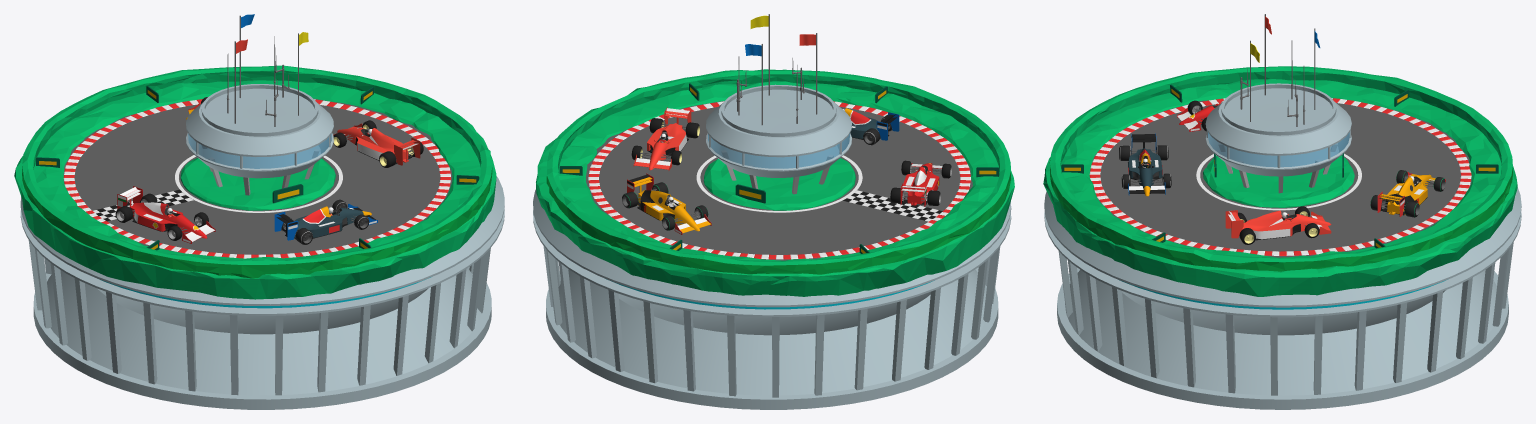
The model's file is land_99.fbx.
3 renders of one model, left to right at view 1: azimuth 30°, elevation 25°; view 2: azimuth 150°, elevation 25°; view 3: azimuth 270°, elevation 25°, orthographic.
Visible parts, largest first — view 1: Cylinder.071, polySurface3100, polySurface3098, Cylinder.016, Cylinder.070, polySurface3103, polySurface3099, land_99.004, land_99.002, land_99.001, polySurface3291, polySurface3102 (+1 smaller); view 2: Cylinder.071, polySurface3100, polySurface3098, Cylinder.016, Cylinder.070, polySurface3103, polySurface3099, land_99.003, land_99.001, land_99.004, Plane.003, land_99.002 (+2 smaller); view 3: Cylinder.071, polySurface3098, polySurface3100, Cylinder.016, Cylinder.070, polySurface3103, polySurface3099, land_99.001, land_99.002, land_99.003, polySurface3291, polySurface3102 (+1 smaller).
Boxes of the visible parts, <box> form: Cylinder.071: <box>20,176,504,409</box>; polySurface3100: <box>14,80,496,299</box>; polySurface3098: <box>63,98,452,254</box>; Cylinder.016: <box>22,65,492,278</box>; Cylinder.070: <box>186,14,333,195</box>; polySurface3103: <box>63,99,450,258</box>; polySurface3099: <box>180,157,335,210</box>; land_99.004: <box>115,186,215,243</box>; land_99.002: <box>274,199,377,244</box>; land_99.001: <box>333,120,423,167</box>; polySurface3291: <box>36,86,479,250</box>; polySurface3102: <box>175,155,342,212</box>; Cylinder.071: <box>533,189,1011,409</box>; polySurface3100: <box>536,81,1014,296</box>; polySurface3098: <box>586,101,972,260</box>; Cylinder.016: <box>546,69,1010,274</box>; Cylinder.070: <box>706,14,851,194</box>; polySurface3103: <box>588,101,970,259</box>; polySurface3099: <box>703,158,855,210</box>; land_99.003: <box>622,173,711,234</box>; land_99.001: <box>631,107,699,170</box>; land_99.004: <box>890,160,951,206</box>; Plane.003: <box>843,190,945,221</box>; land_99.002: <box>845,108,899,145</box>; Cylinder.071: <box>1044,187,1521,409</box>; polySurface3098: <box>1089,100,1471,257</box>; polySurface3100: <box>1043,79,1517,296</box>; Cylinder.016: <box>1049,66,1512,271</box>; Cylinder.070: <box>1205,14,1351,193</box>; polySurface3103: <box>1089,98,1471,255</box>; polySurface3099: <box>1203,155,1354,207</box>; land_99.001: <box>1225,206,1331,244</box>; land_99.002: <box>1119,133,1171,196</box>; land_99.003: <box>1370,170,1445,217</box>; polySurface3291: <box>1061,84,1498,248</box>; polySurface3102: <box>1196,153,1361,210</box>.
Bounding box in the file's own units: 24.17 × 15.74 × 24.12.
